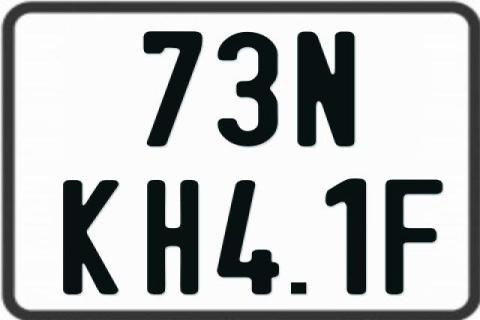0: (141, 31, 206, 146), (215, 30, 277, 146), (216, 178, 278, 294), (323, 178, 366, 294)
F: (384, 178, 448, 294)
H: (146, 180, 200, 298)
K: (60, 177, 116, 293)
N: (295, 31, 354, 149)
